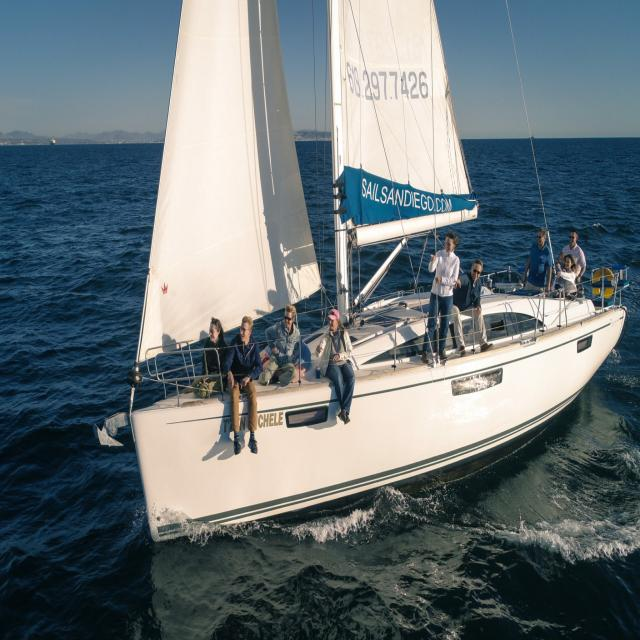boat: (109, 0, 632, 559)
